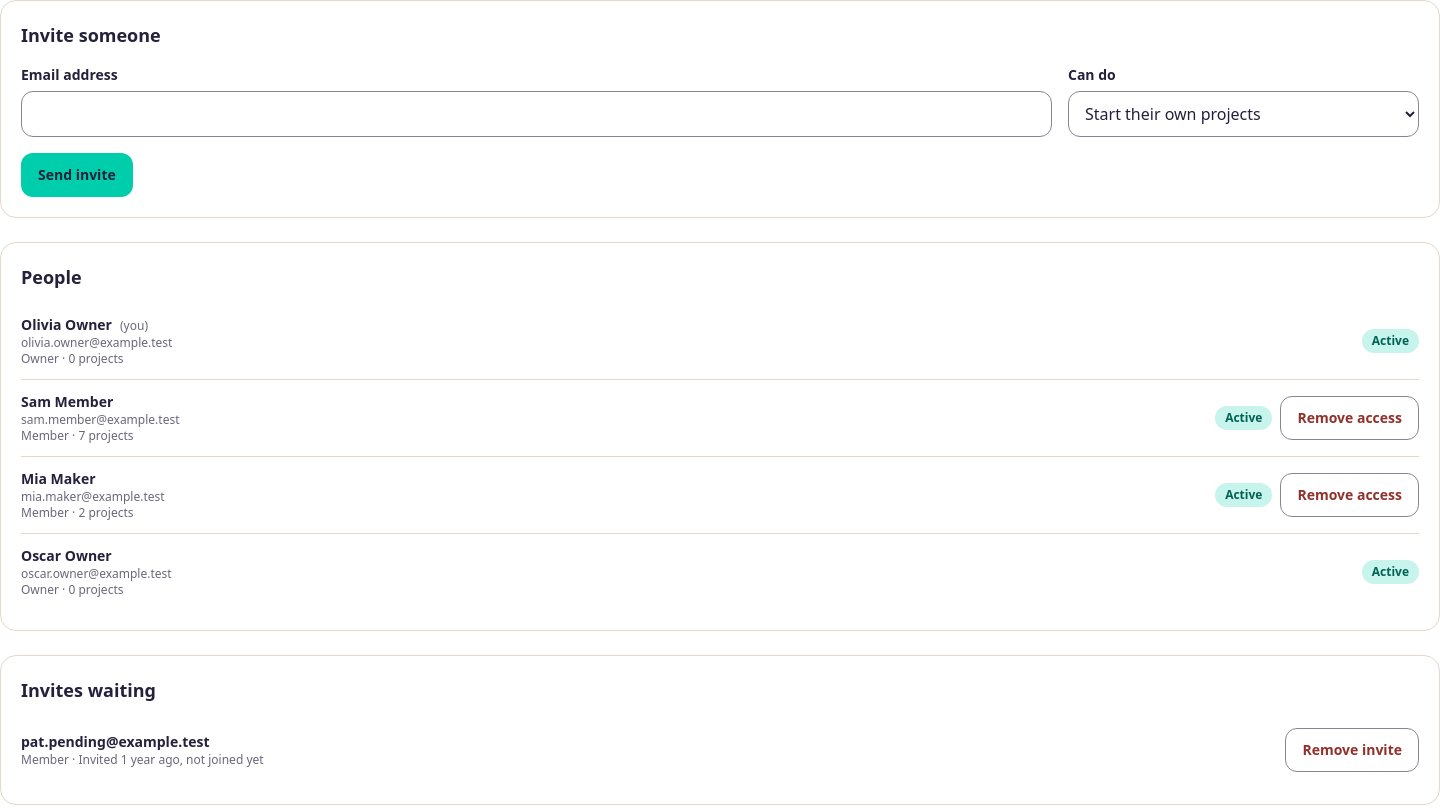
Test: TeamManager: invites › lists only invites that were not used yet, and revokes them
Check: the number of list items with test id "invite-row" is 1, box [21,716,1419,784]
Check: the list with test id "invite-list" shows "pat.pending@example.test", box [21,732,210,751]
Click the button with aria-label "remove the invite for pat.pending".
click(1352, 750)  # box [1285,728,1419,772]
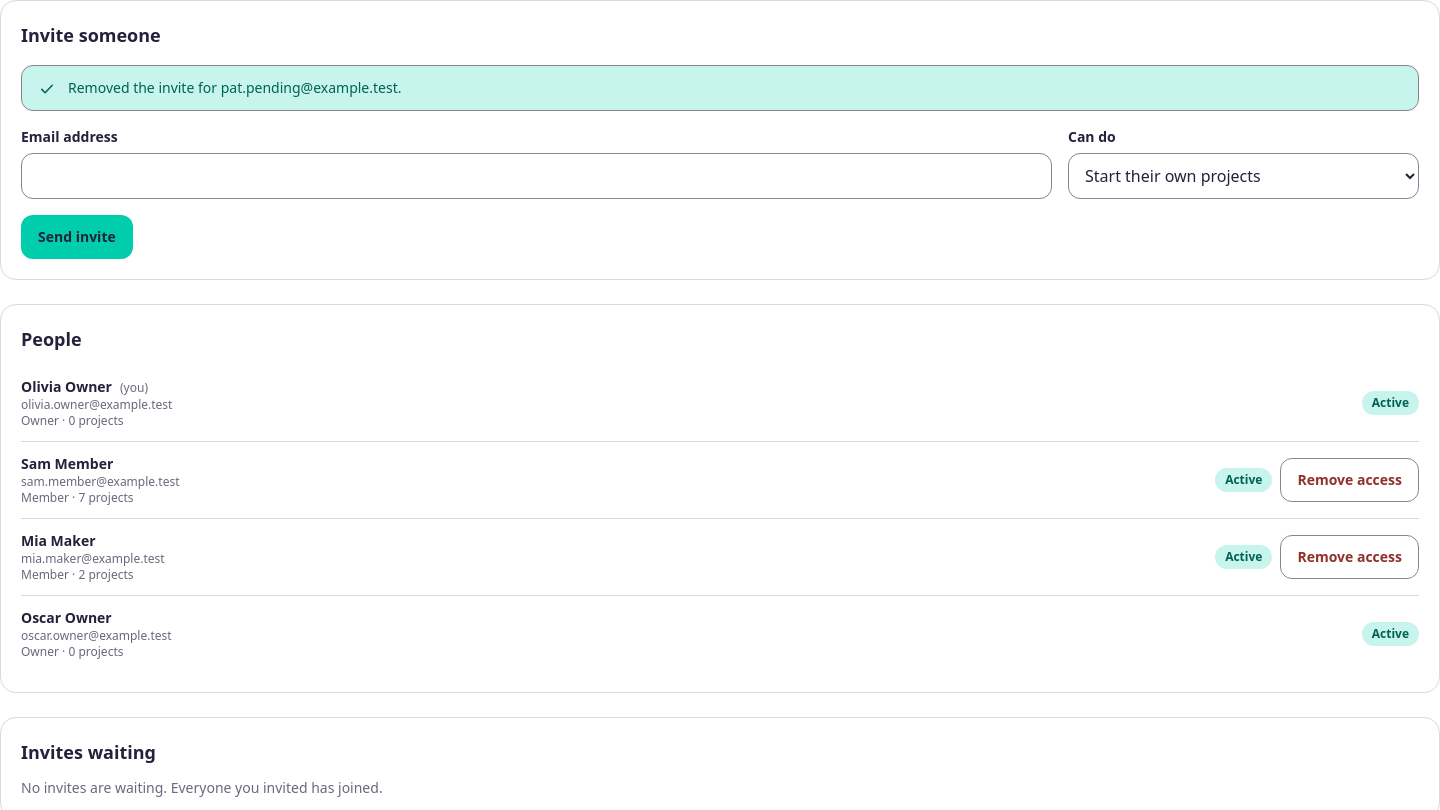
Check: the text "Removed the invite for pat.pending@example.test." is shown, box [68,78,402,98]
Check: the list with test id "invite-list" is gone
Check: the text "No invites are waiting. Everyone you invited has joined." is shown, box [21,778,383,797]
